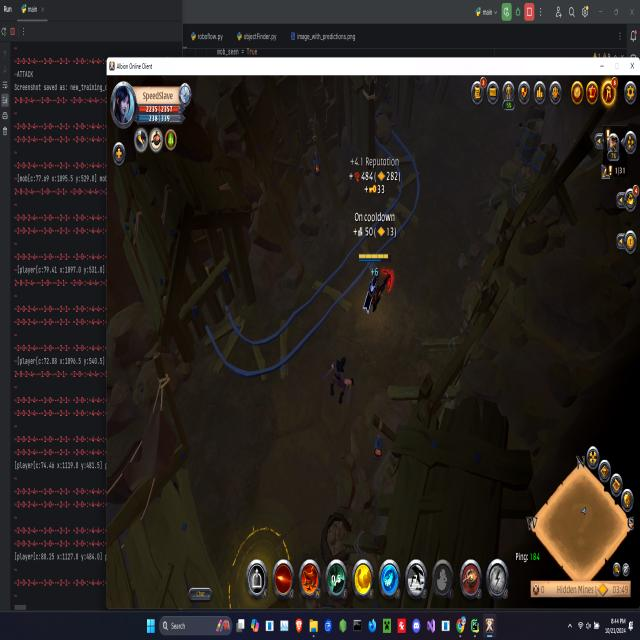ore: (323, 348, 355, 409)
red: (359, 252, 392, 318)
